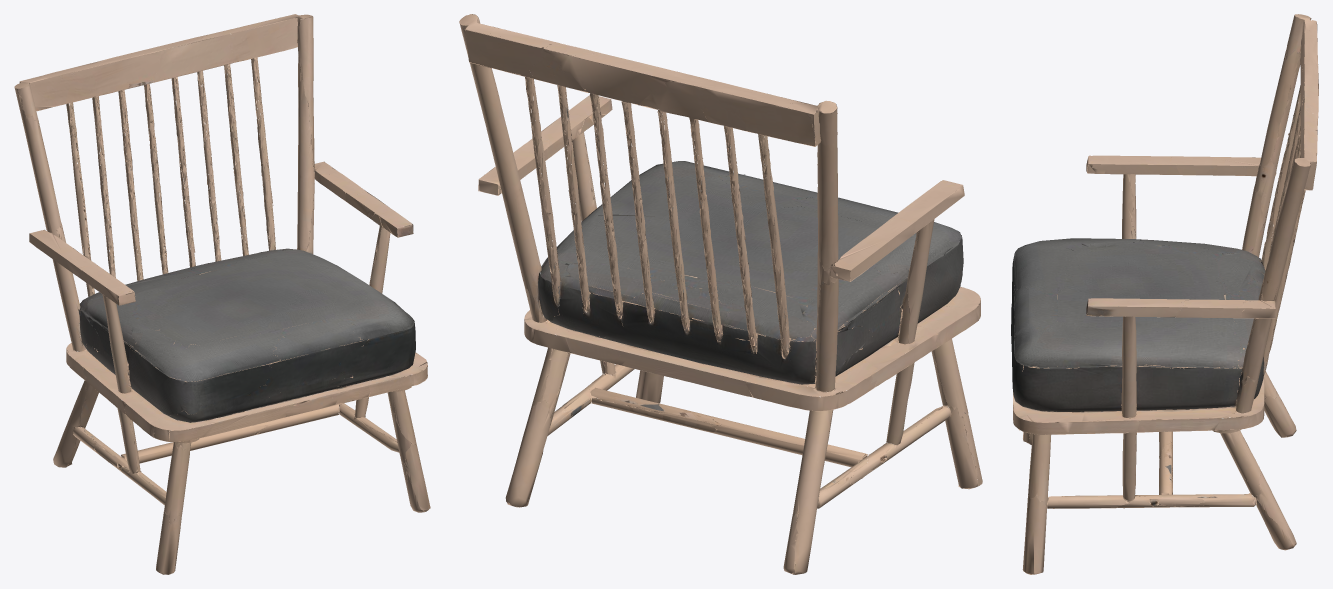
File: ikea-persbol-armchair-birch-tibbleby-beige-gray-20525926.glb
3 views of the same model, side by side, from view 1: azimuth 30°, elevation 25°; view 2: azimuth 150°, elevation 25°; view 3: azimuth 270°, elevation 25° (orthographic). The views are drawn at different scales.
Visible parts, largest first — view 1: model; view 2: model; view 3: model.
Part boxes in pixels (bbox=[...]): model: bbox=[14, 14, 430, 574]; model: bbox=[459, 14, 982, 574]; model: bbox=[1011, 14, 1318, 574].
Bounding box in the file's own units: 1.41 × 1.82 × 1.21.
1 material, 1 textured.
